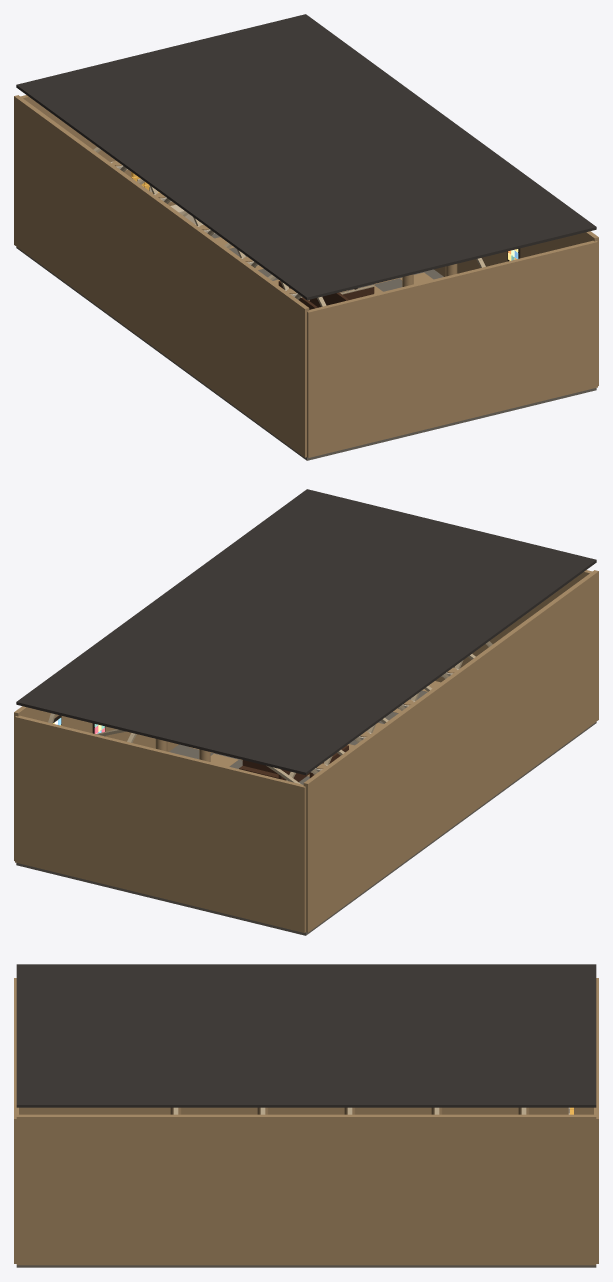
Rendered from seville.glb.
3 renders of one model, top to bottom at view 1: azimuth 30°, elevation 25°; view 2: azimuth 150°, elevation 25°; view 3: azimuth 270°, elevation 25°, orthographic.
Bounding box in the file's own units: 23.35 × 12.38 × 40.35.
